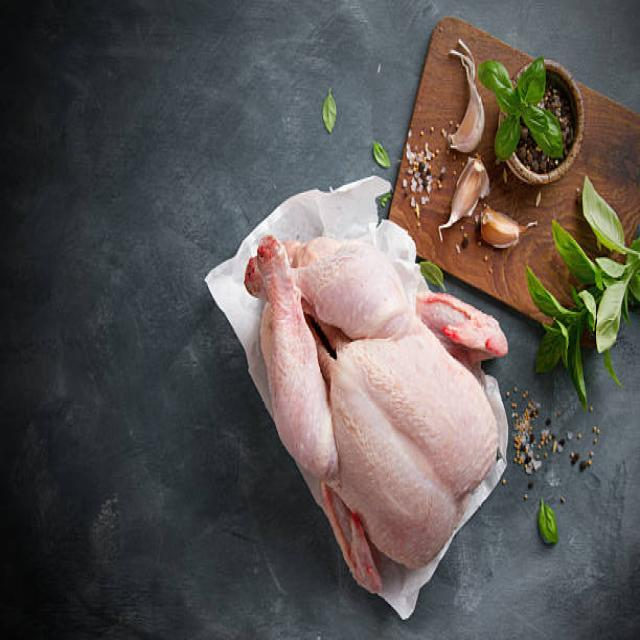Chicken: (235, 211, 512, 621)
